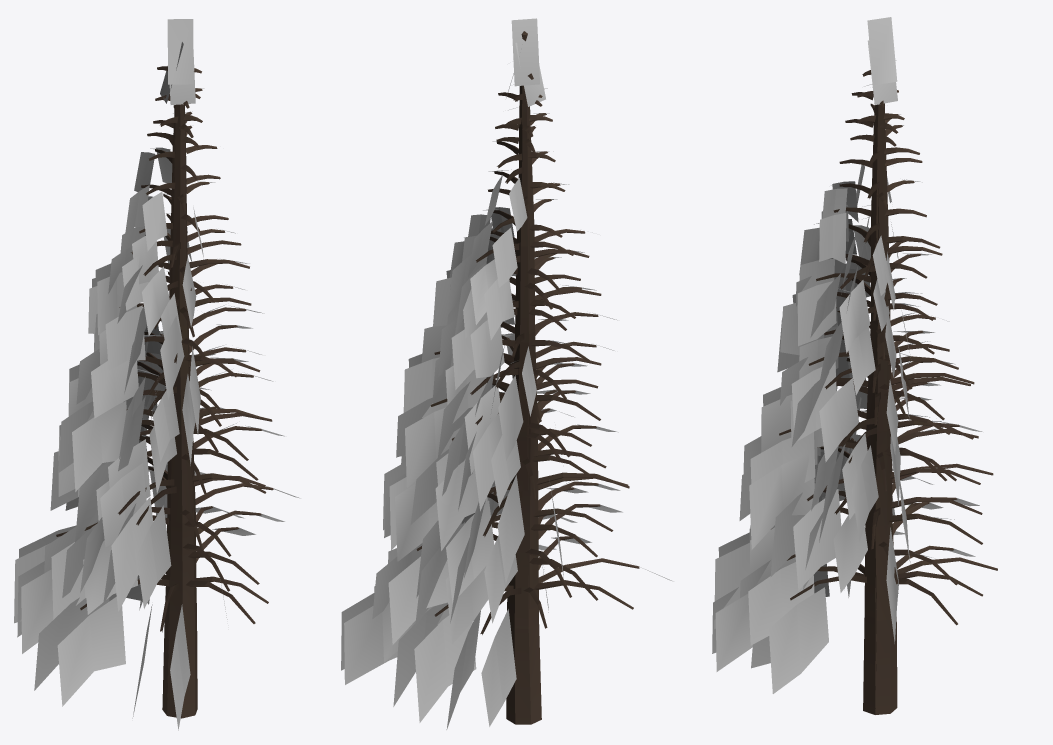
File: larch_near.glb
3 renders of one model, left to right at view 1: azimuth 30°, elevation 25°; view 2: azimuth 150°, elevation 25°; view 3: azimuth 270°, elevation 25°, orthographic.
Visible parts, largest first — view 1: larch_1, larch_0; view 2: larch_0, larch_1; view 3: larch_0, larch_1.
Part boxes in pixels (x1,y1,x2,y2): larch_1: [14, 19, 300, 718]; larch_0: [17, 42, 284, 730]; larch_0: [341, 42, 673, 724]; larch_1: [383, 18, 633, 729]; larch_0: [712, 40, 993, 714]; larch_1: [714, 17, 997, 714].
Bounding box in the file's own units: 4.5 × 10.74 × 4.61.
